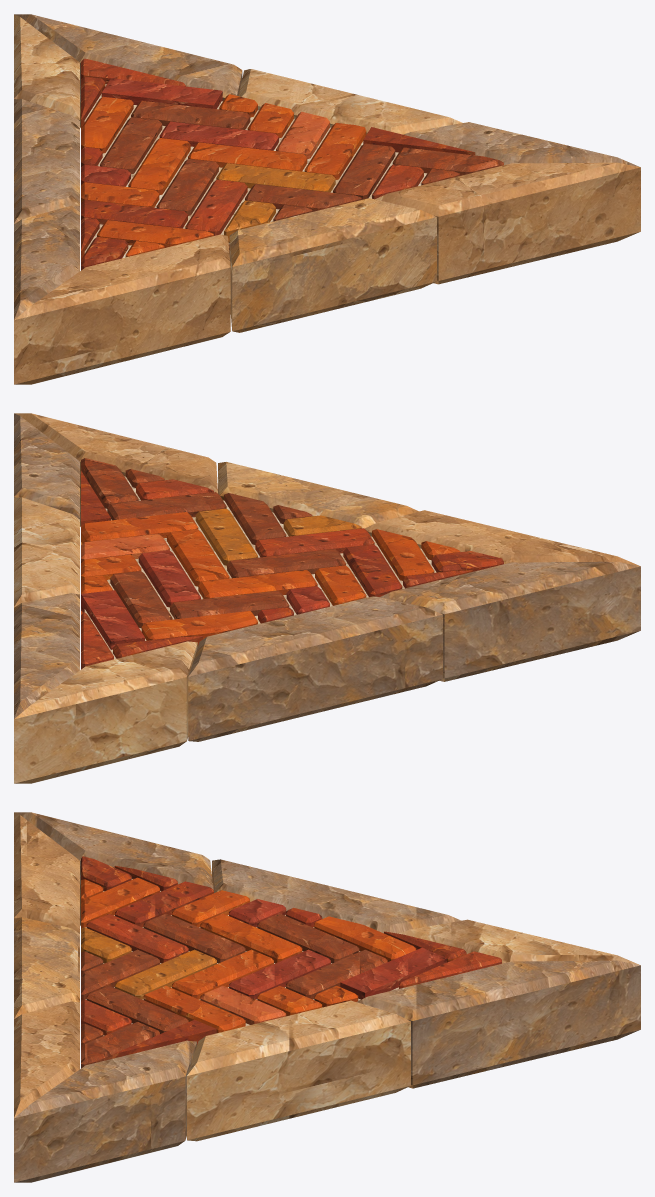
File: floor_triangle__clay_brick.glb
3 renders of one model, top to bottom at view 1: azimuth 30°, elevation 25°; view 2: azimuth 150°, elevation 25°; view 3: azimuth 270°, elevation 25°, orthographic.
Visible parts, largest first — view 1: model; view 2: model; view 3: model.
Boxes of the visible parts, x1,y1,x2,y2 form: model: (14,14,640,384); model: (14,413,640,783); model: (14,812,640,1182).
Bounding box in the file's own units: 1.98 × 0.238 × 1.71.
Materials: 15 (15 with a texture image).
